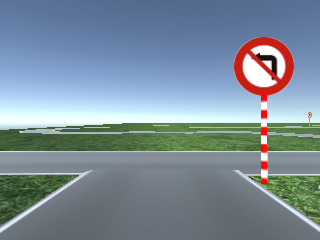0: (1, 193, 320, 239)
NoLeft: (234, 37, 295, 96)
